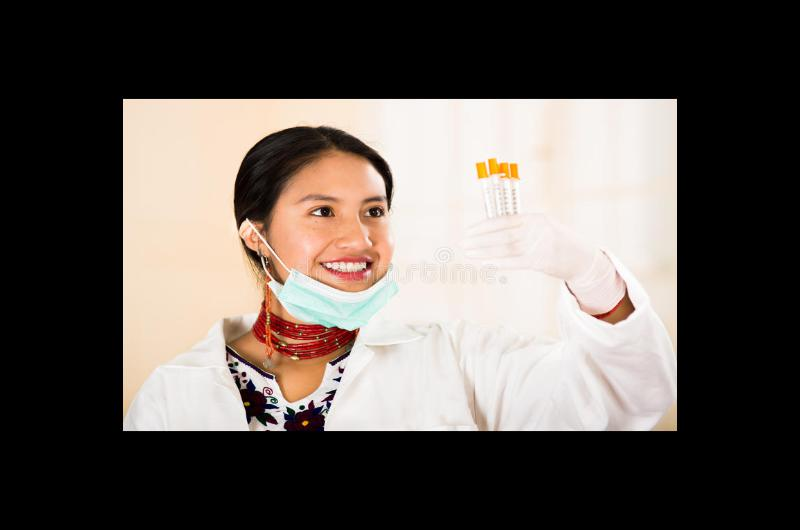mask_weared_incorrect: (292, 187, 394, 318)
